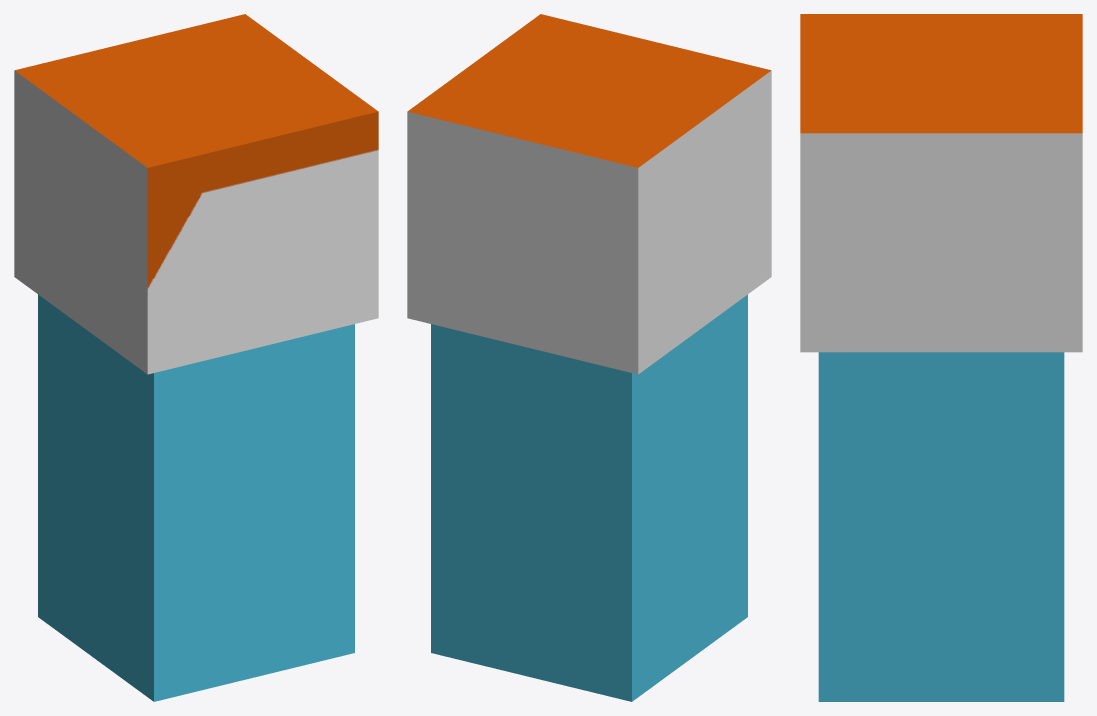
The model's file is silly morty.fbx.
3 views of the same model, side by side, from view 1: azimuth 30°, elevation 25°; view 2: azimuth 150°, elevation 25°; view 3: azimuth 270°, elevation 25° (orthographic). The views are drawn at different scales.
Visible parts, largest first — view 1: pCube7; view 2: pCube7; view 3: pCube7.
Part boxes in pixels (box(x1,y1,x2,y2)): pCube7: box(14, 14, 378, 701); pCube7: box(407, 14, 771, 701); pCube7: box(800, 14, 1082, 701).
Size of the model in its own units: 3.18 by 7.16 by 3.18.
